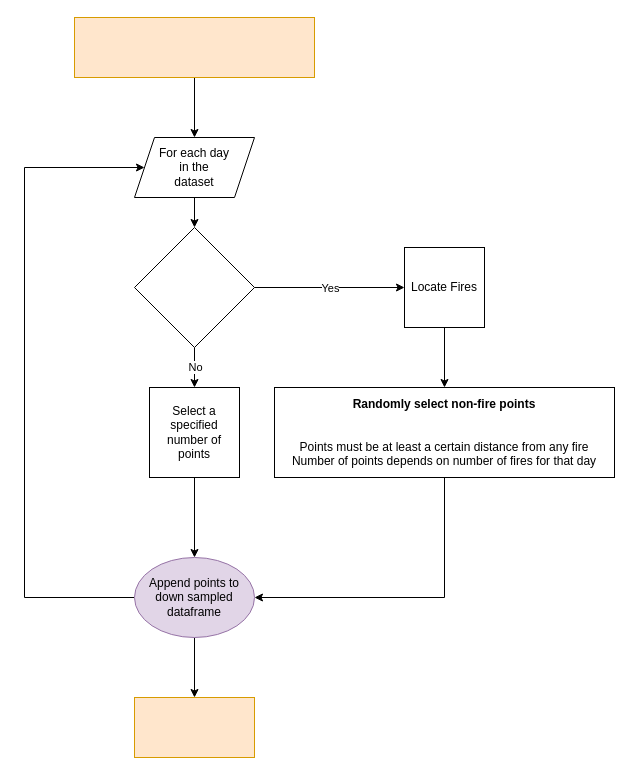
This 632x775 diagram has some shape labels left out. The shapes that lost their labels are listed below. From the top down, each one's box as (x1, y1, x2, y2) in pixels, then its label:
(74, 16, 314, 78): Cleaned Full Dataset
(134, 226, 254, 348): Fire on this day?
(134, 696, 254, 758): Down Sampled Dataset
